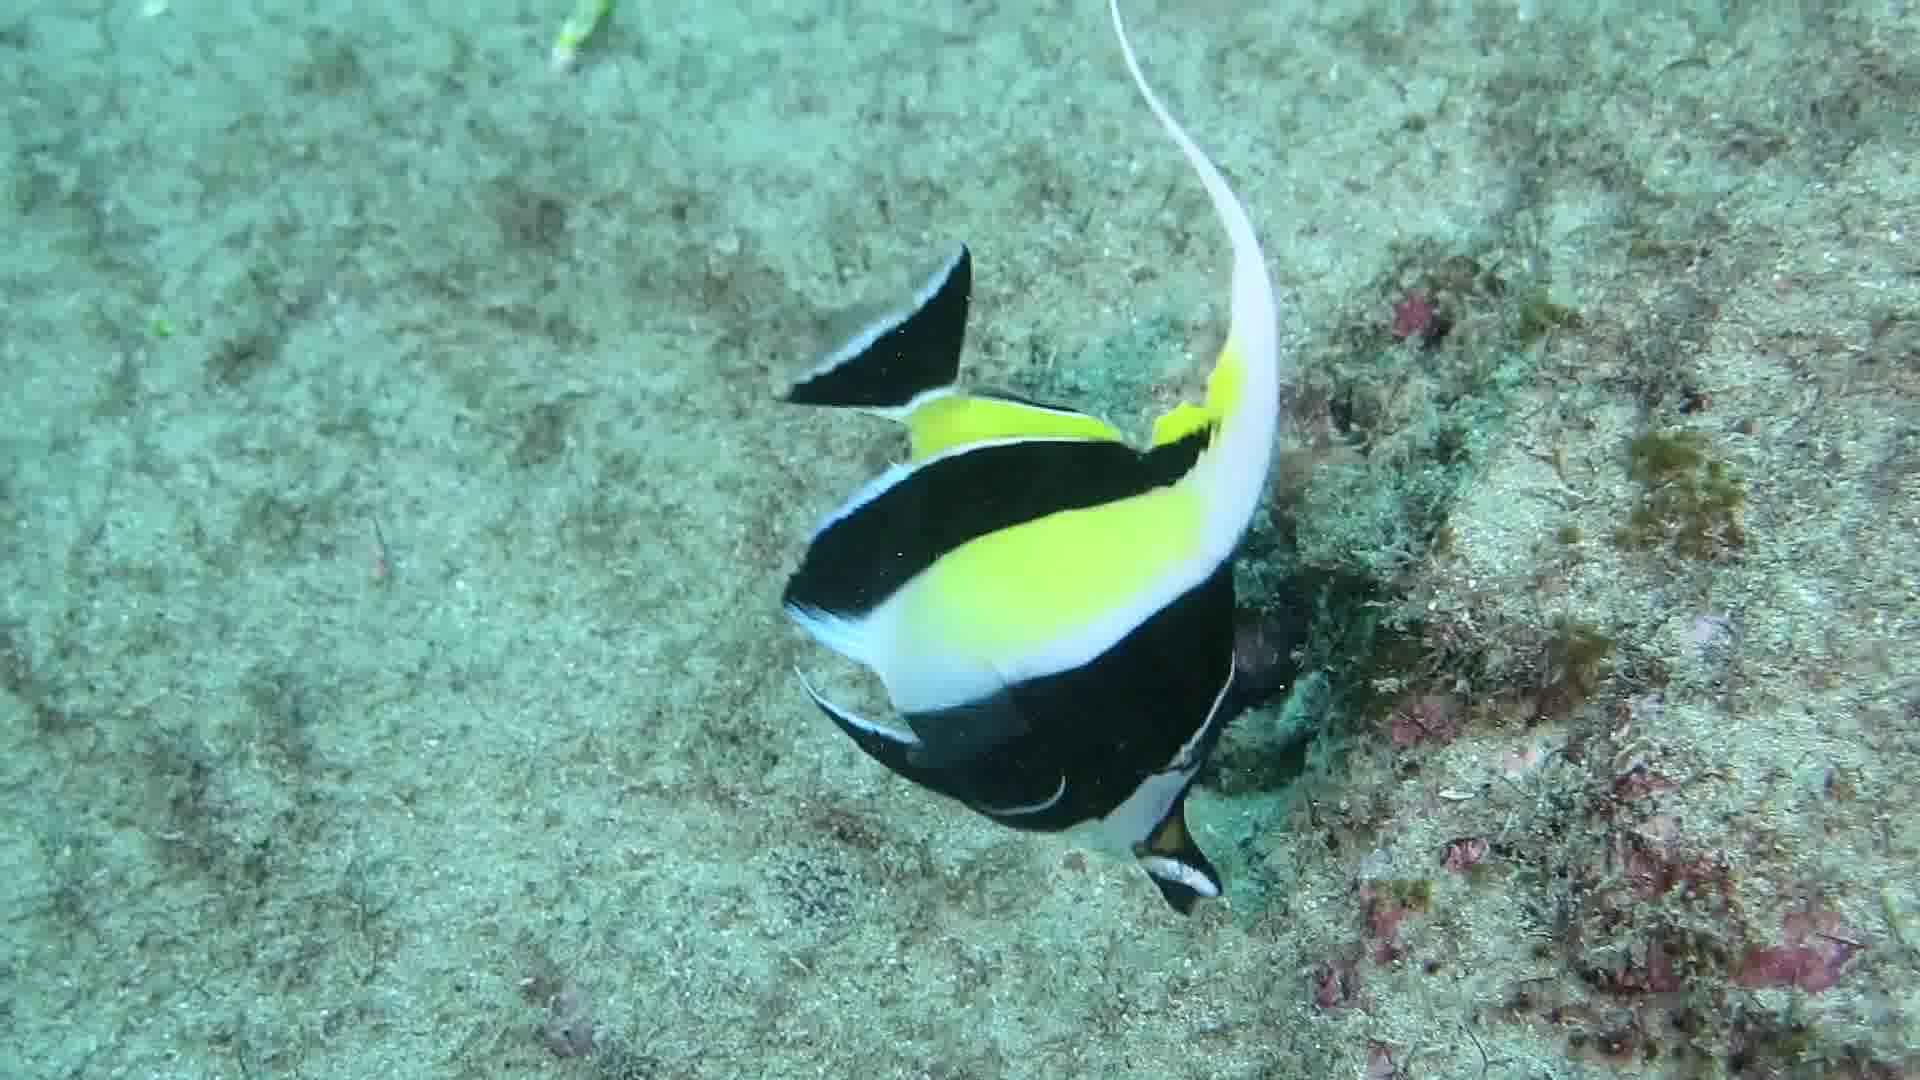Zanclus cornutus: (705, 272, 1472, 897)
